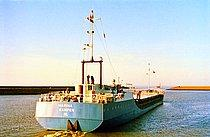Ship: (29, 55, 167, 135)
